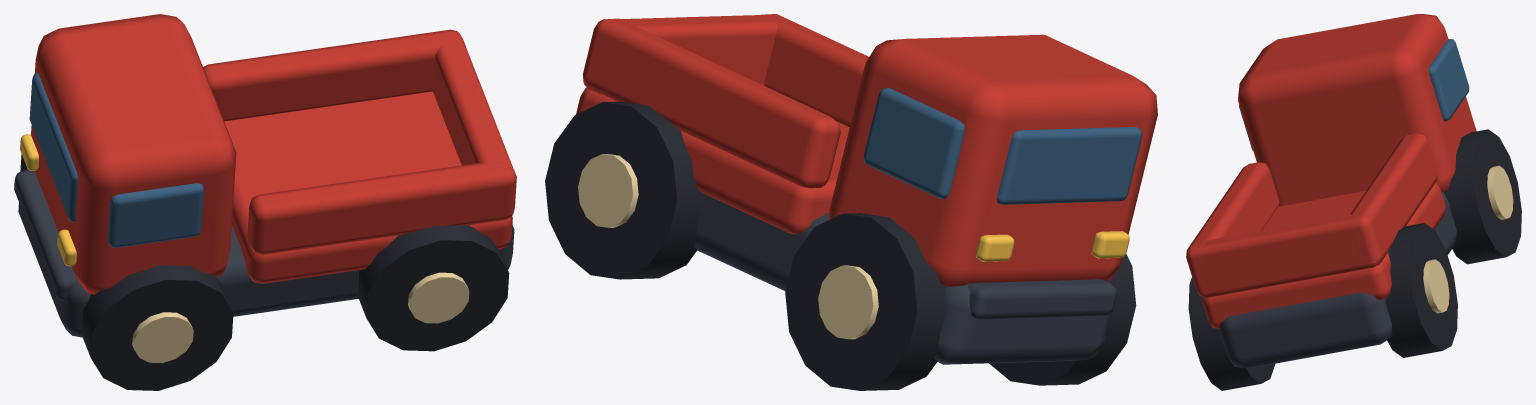
The model's file is toytruck.glb.
The picture shows the model from 3 angles, left to right: view 1: azimuth 30°, elevation 25°; view 2: azimuth 150°, elevation 25°; view 3: azimuth 270°, elevation 25°; orthographic projection. The views are drawn at different scales.
Visible parts, largest first — view 1: toytruck; view 2: toytruck; view 3: toytruck.
Boxes of the visible parts, left/top/right/bottom form: toytruck: left=14, top=14, right=516, bottom=390; toytruck: left=545, top=14, right=1157, bottom=390; toytruck: left=1186, top=14, right=1521, bottom=390.
Size of the model in its own units: 0.971 by 0.6624 by 0.7439.
